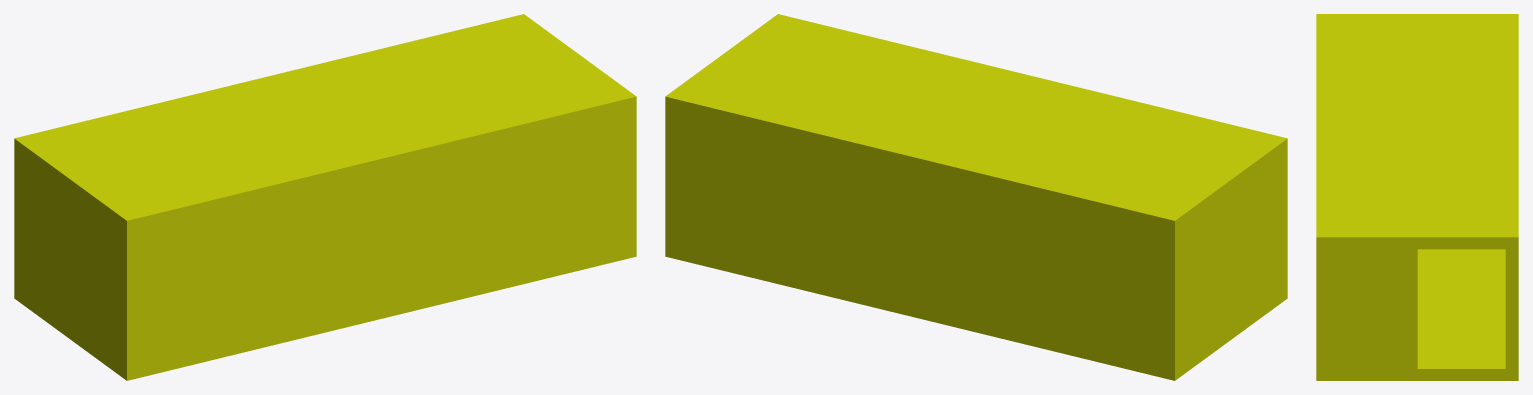
File: container.gltf
3 views of the same model, side by side, from view 1: azimuth 30°, elevation 25°; view 2: azimuth 150°, elevation 25°; view 3: azimuth 270°, elevation 25° (orthographic). The views are drawn at different scales.
Visible parts, largest first — view 1: Cube.017; view 2: Cube.017; view 3: Cube.017.
Part boxes in pixels (x1,y1,x2,y2): Cube.017: (14, 14, 636, 380); Cube.017: (665, 14, 1287, 380); Cube.017: (1316, 14, 1518, 380).
Size of the model in its own units: 12 by 3.6 by 4.6.
